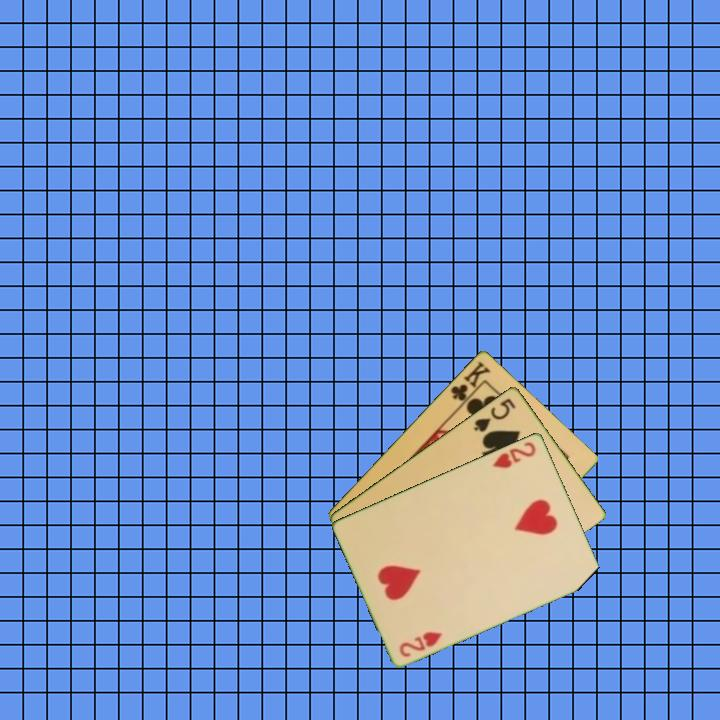2h: (489, 438, 539, 471), (396, 627, 445, 660)
5s: (470, 394, 519, 435)
Kc: (447, 357, 494, 410)
